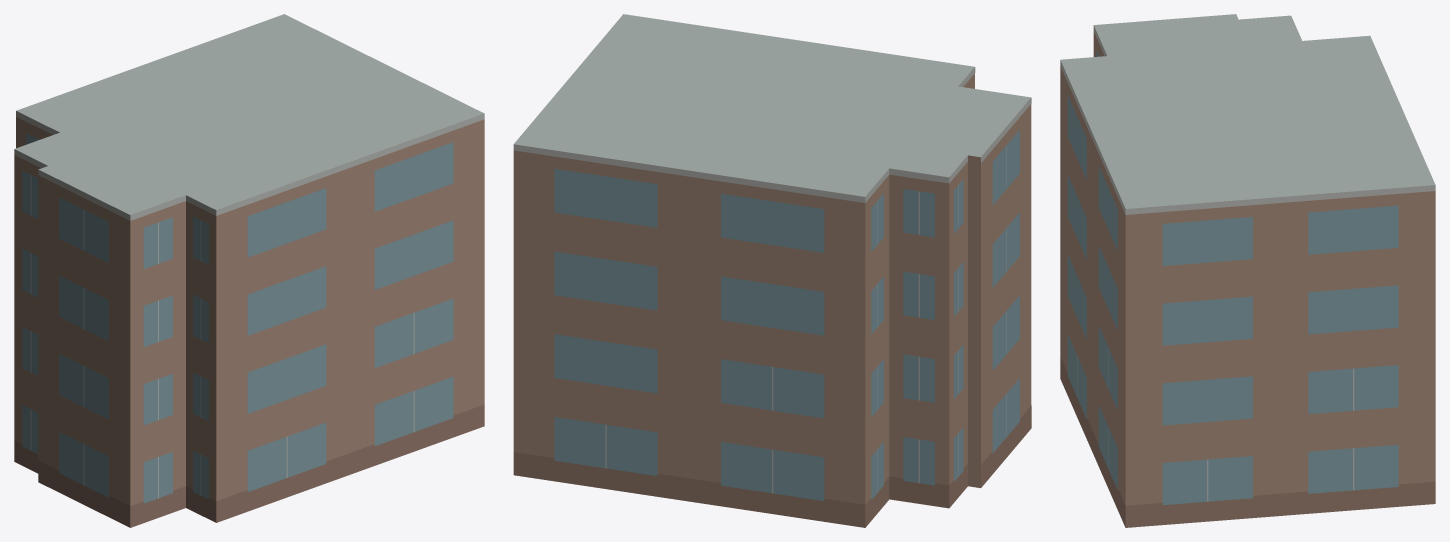
Rendered from survey-upis-32785257.glb.
3 renders of one model, left to right at view 1: azimuth 30°, elevation 25°; view 2: azimuth 150°, elevation 25°; view 3: azimuth 270°, elevation 25°, orthographic. The views are drawn at different scales.
Parts seen in each view (by area): view 1: survey-upis-32785257.tmp; view 2: survey-upis-32785257.tmp; view 3: survey-upis-32785257.tmp.
Part boxes in pixels (bbox=[...]): survey-upis-32785257.tmp: bbox=[14, 14, 484, 527]; survey-upis-32785257.tmp: bbox=[513, 14, 1031, 527]; survey-upis-32785257.tmp: bbox=[1060, 14, 1435, 527].
Size of the model in its own units: 17.33 by 13.2 by 14.09.
